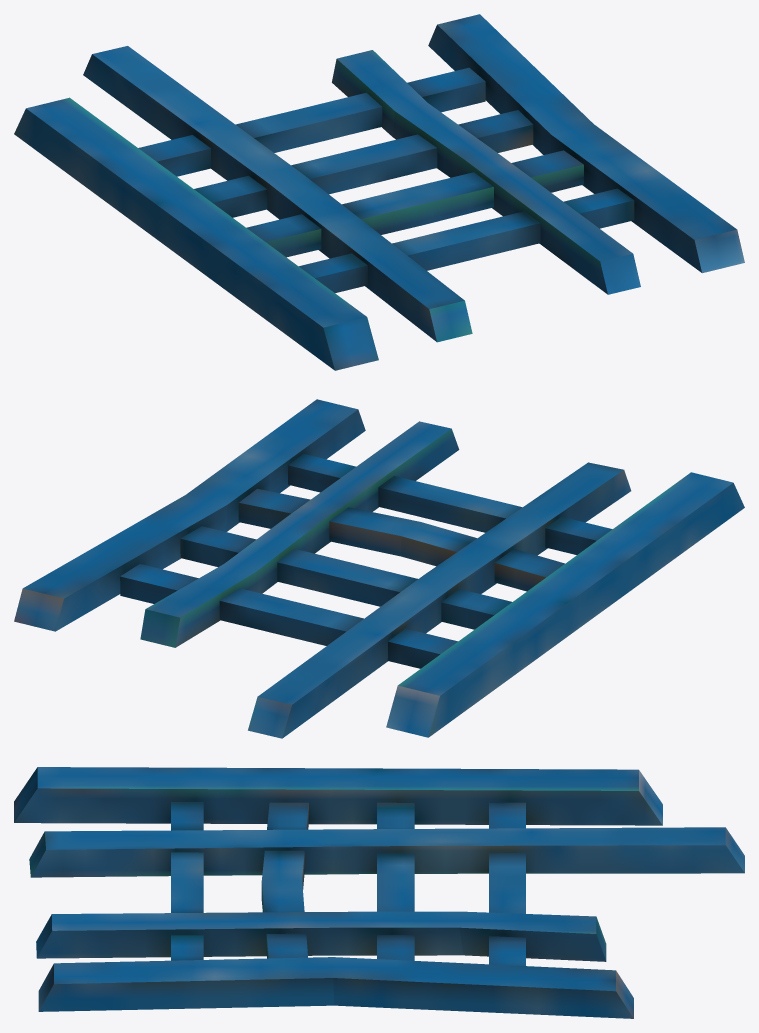
Rendered from junk_00-v2.glb.
3 views of the same model, one above another, from view 1: azimuth 30°, elevation 25°; view 2: azimuth 150°, elevation 25°; view 3: azimuth 270°, elevation 25° (orthographic). The views are drawn at different scales.
Parts seen in each view (by area): view 1: junk_00; view 2: junk_00; view 3: junk_00.
Part boxes in pixels (x1,y1,x2,y2): junk_00: [14, 14, 744, 370]; junk_00: [14, 399, 744, 738]; junk_00: [14, 767, 744, 1018].
Bounding box in the file's own units: 2.26 × 0.1906 × 3.21.
1 material, 1 textured.
